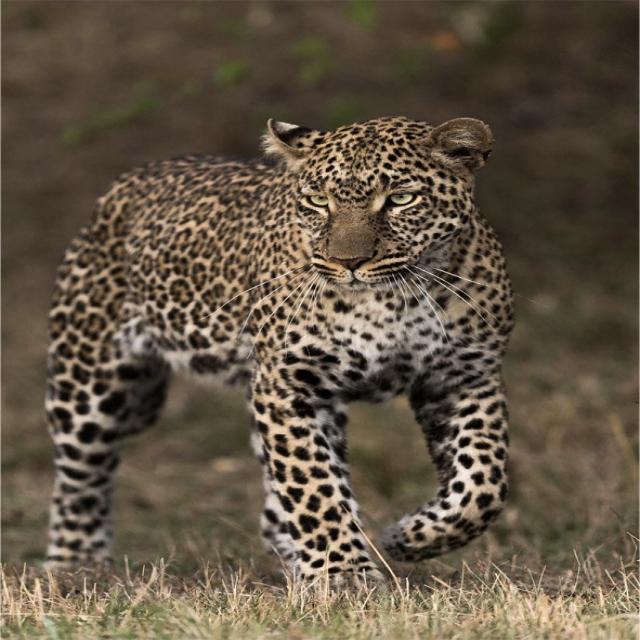leopard: (45, 118, 514, 587)
